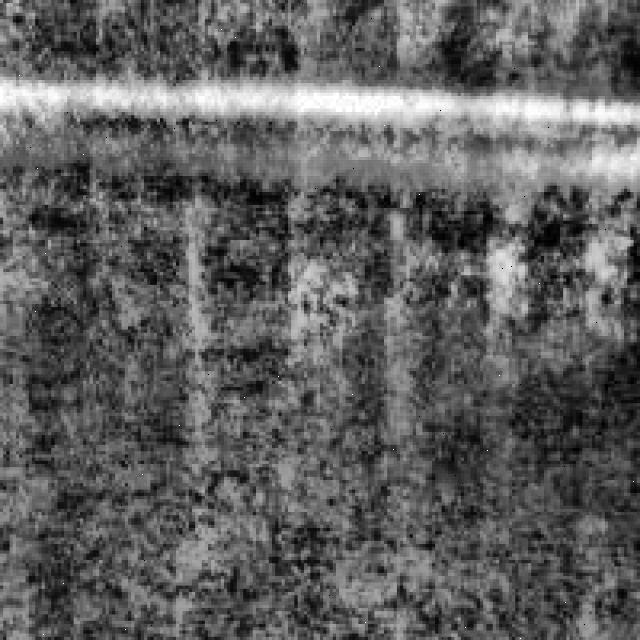Inclusion: (0, 67, 634, 170)
